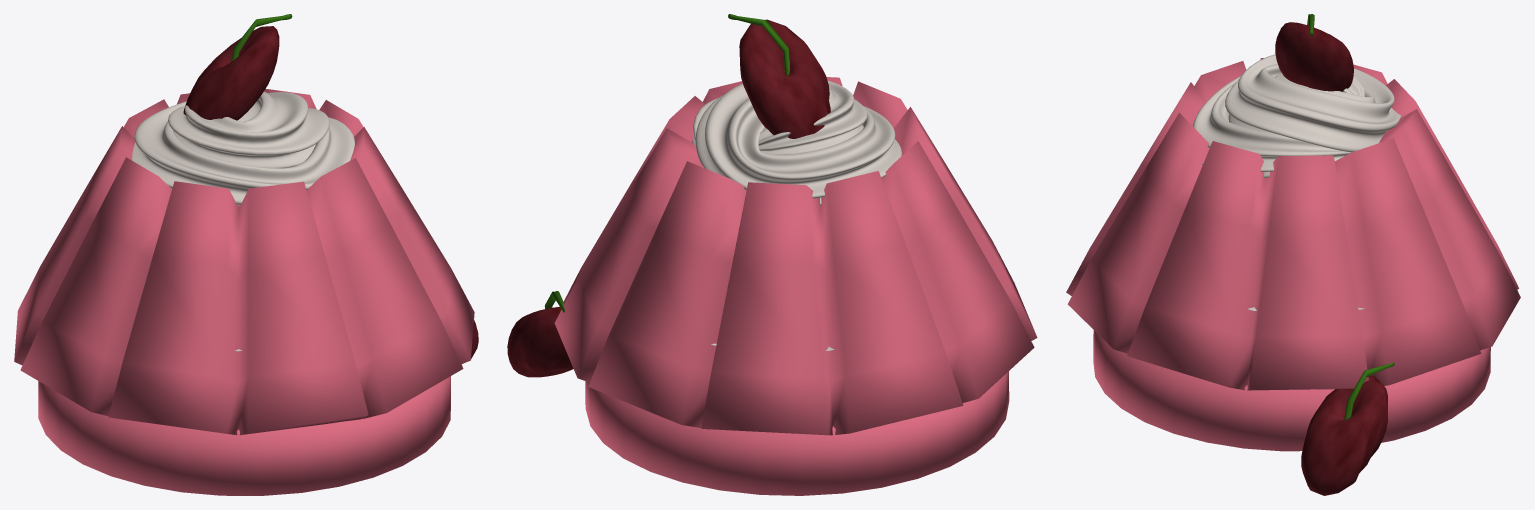
The model's file is Glb.Pudding.glb.
The picture shows the model from 3 angles, left to right: view 1: azimuth 30°, elevation 25°; view 2: azimuth 150°, elevation 25°; view 3: azimuth 270°, elevation 25°; orthographic projection. The views are drawn at different scales.
Parts seen in each view (by area): view 1: A. Upper Puddin, Bottom Case, Whipped Cream, Sphere.001; view 2: A. Upper Puddin, Bottom Case, Whipped Cream, Sphere.001, Sphere.002, Cherry bottom.002; view 3: A. Upper Puddin, Bottom Case, Whipped Cream, Sphere.002, Sphere.001, Cherry bottom.001.
Part boxes in pixels (box(x1,y1,x2,y2)): A. Upper Puddin: box(14, 89, 474, 435); Bottom Case: box(38, 376, 450, 495); Whipped Cream: box(132, 91, 354, 205); Sphere.001: box(183, 26, 279, 120); A. Upper Puddin: box(554, 77, 1037, 435); Bottom Case: box(585, 371, 1009, 495); Whipped Cream: box(692, 80, 901, 204); Sphere.001: box(739, 19, 830, 138); Sphere.002: box(507, 306, 573, 377); Cherry bottom.002: box(728, 14, 789, 75); A. Upper Puddin: box(1066, 58, 1520, 390); Bottom Case: box(1093, 330, 1490, 451); Whipped Cream: box(1193, 54, 1401, 177); Sphere.002: box(1301, 376, 1387, 495); Sphere.001: box(1275, 22, 1353, 91); Cherry bottom.001: box(1344, 362, 1394, 419).
Size of the model in its own units: 2.53 by 2.11 by 2.29.
Materials: 9 (9 with a texture image).
